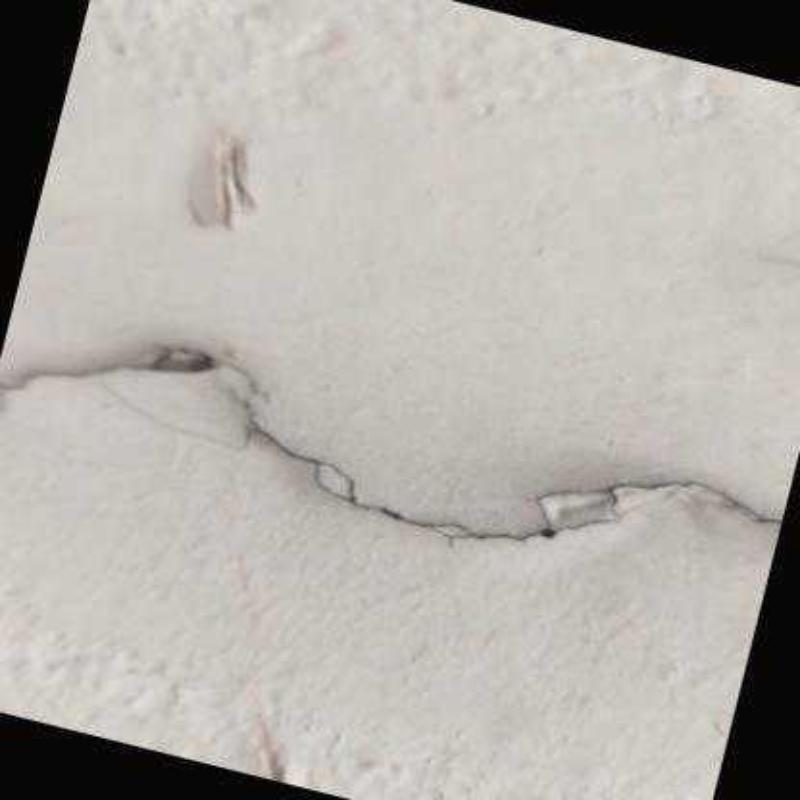pothole: (0, 346, 783, 543), (104, 383, 252, 452)
